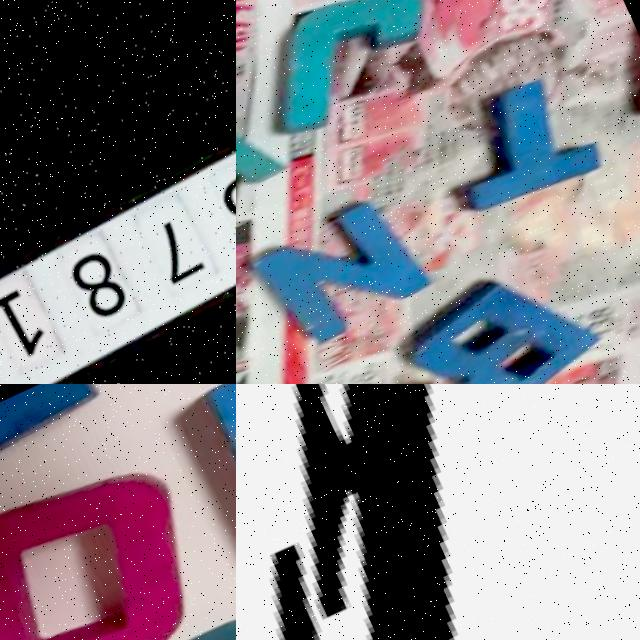1: (0, 264, 76, 381)
3: (198, 143, 236, 272)
7: (129, 192, 232, 307)
8: (48, 222, 160, 348)
B: (399, 258, 594, 384)
F: (236, 384, 640, 640)
J: (244, 0, 446, 143)
N: (250, 188, 431, 350)
O: (0, 448, 222, 640)
T: (416, 66, 596, 231)
V: (236, 61, 289, 239)
